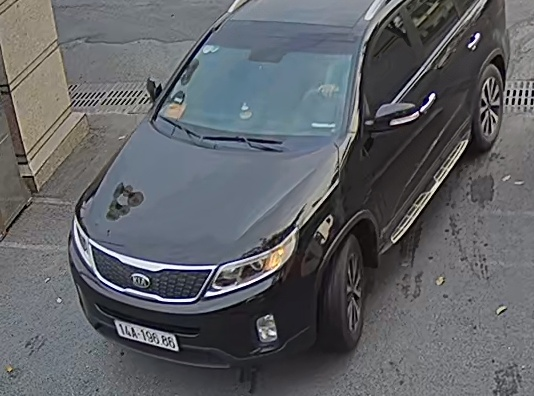vehicle plate: (110, 313, 180, 354)
